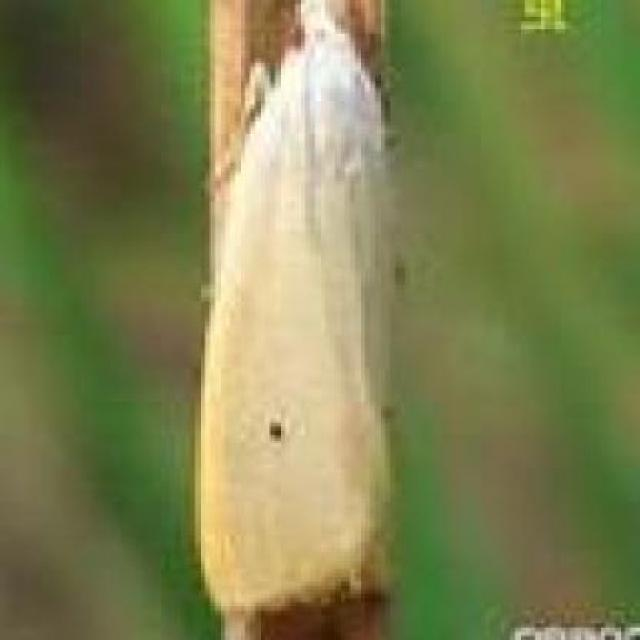stem-borer: (194, 0, 408, 620)
